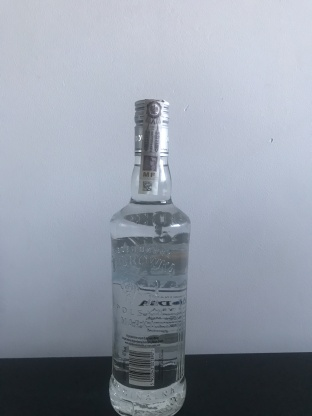nakretka: (131, 95, 172, 159)
